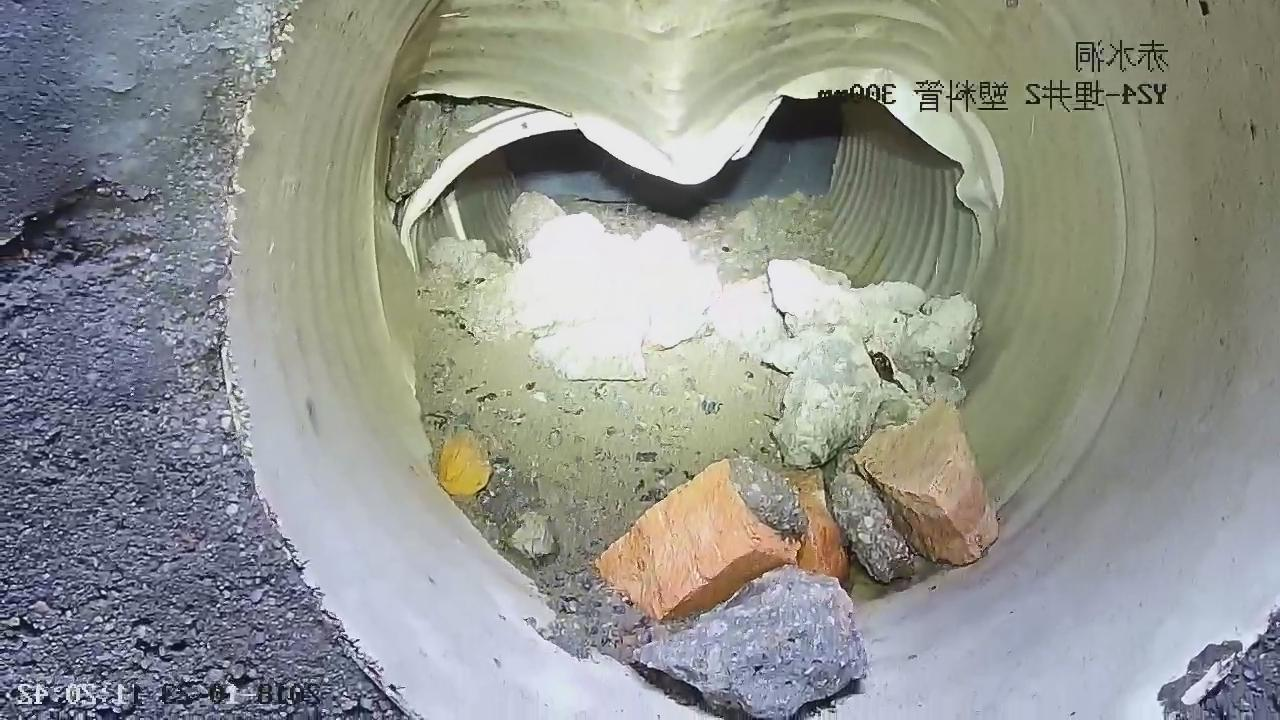BX: (362, 65, 1018, 285)
CJ: (420, 192, 997, 719)
PL: (375, 82, 597, 277)
